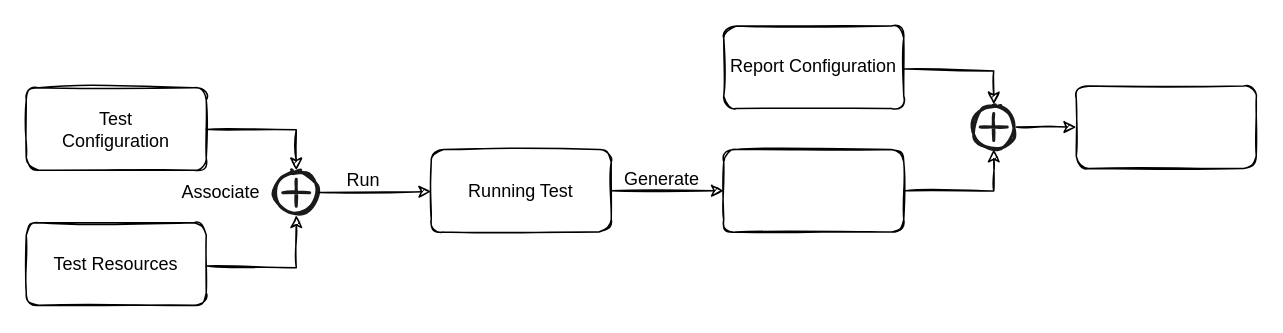
Image size: 1283x333. Some labels were removed from this diagram. Here are the shapes that lost their labels. From the top down, the centre of each, then its label:
(x=1165, y=126): Test Report
(x=813, y=190): Test Result
